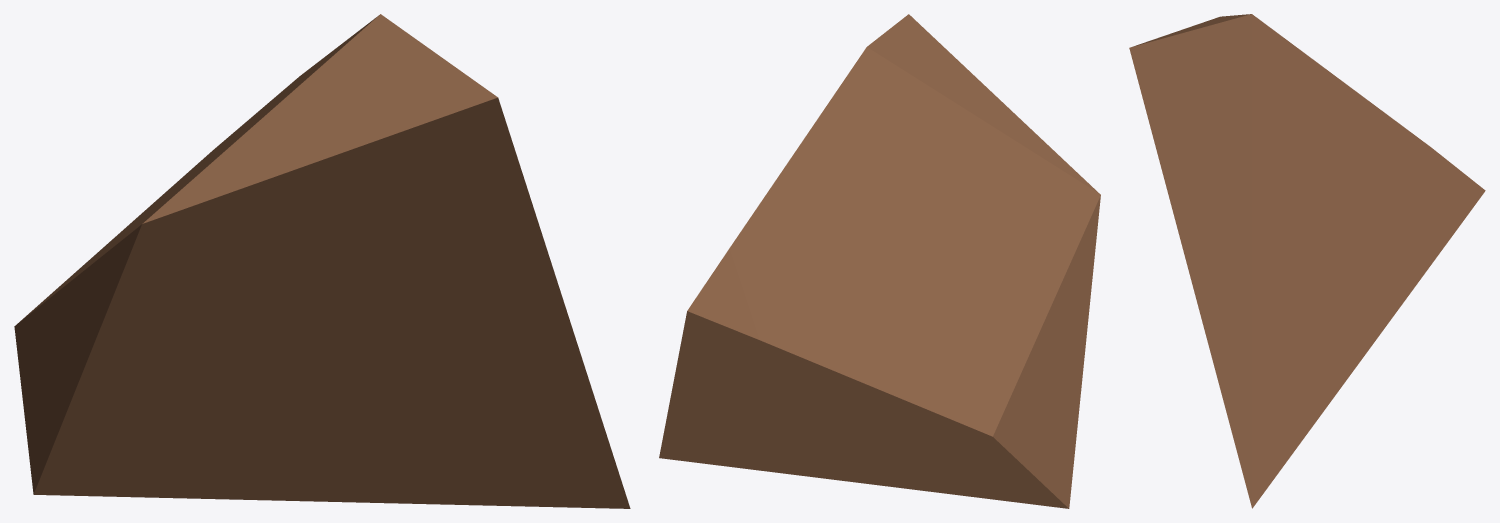
File: WoodCellCube_003_cell_048.fbx
3 renders of one model, left to right at view 1: azimuth 30°, elevation 25°; view 2: azimuth 150°, elevation 25°; view 3: azimuth 270°, elevation 25°, orthographic. The views are drawn at different scales.
Parts seen in each view (by area): view 1: WoodCellCube_003_cell_048; view 2: WoodCellCube_003_cell_048; view 3: WoodCellCube_003_cell_048.
Boxes of the visible parts, <box> form: WoodCellCube_003_cell_048: <box>14,14,630,508</box>; WoodCellCube_003_cell_048: <box>659,14,1100,508</box>; WoodCellCube_003_cell_048: <box>1129,14,1485,508</box>.
Size of the model in its own units: 0.0354 by 0.0445 by 0.0457.
1 material, 1 textured.
